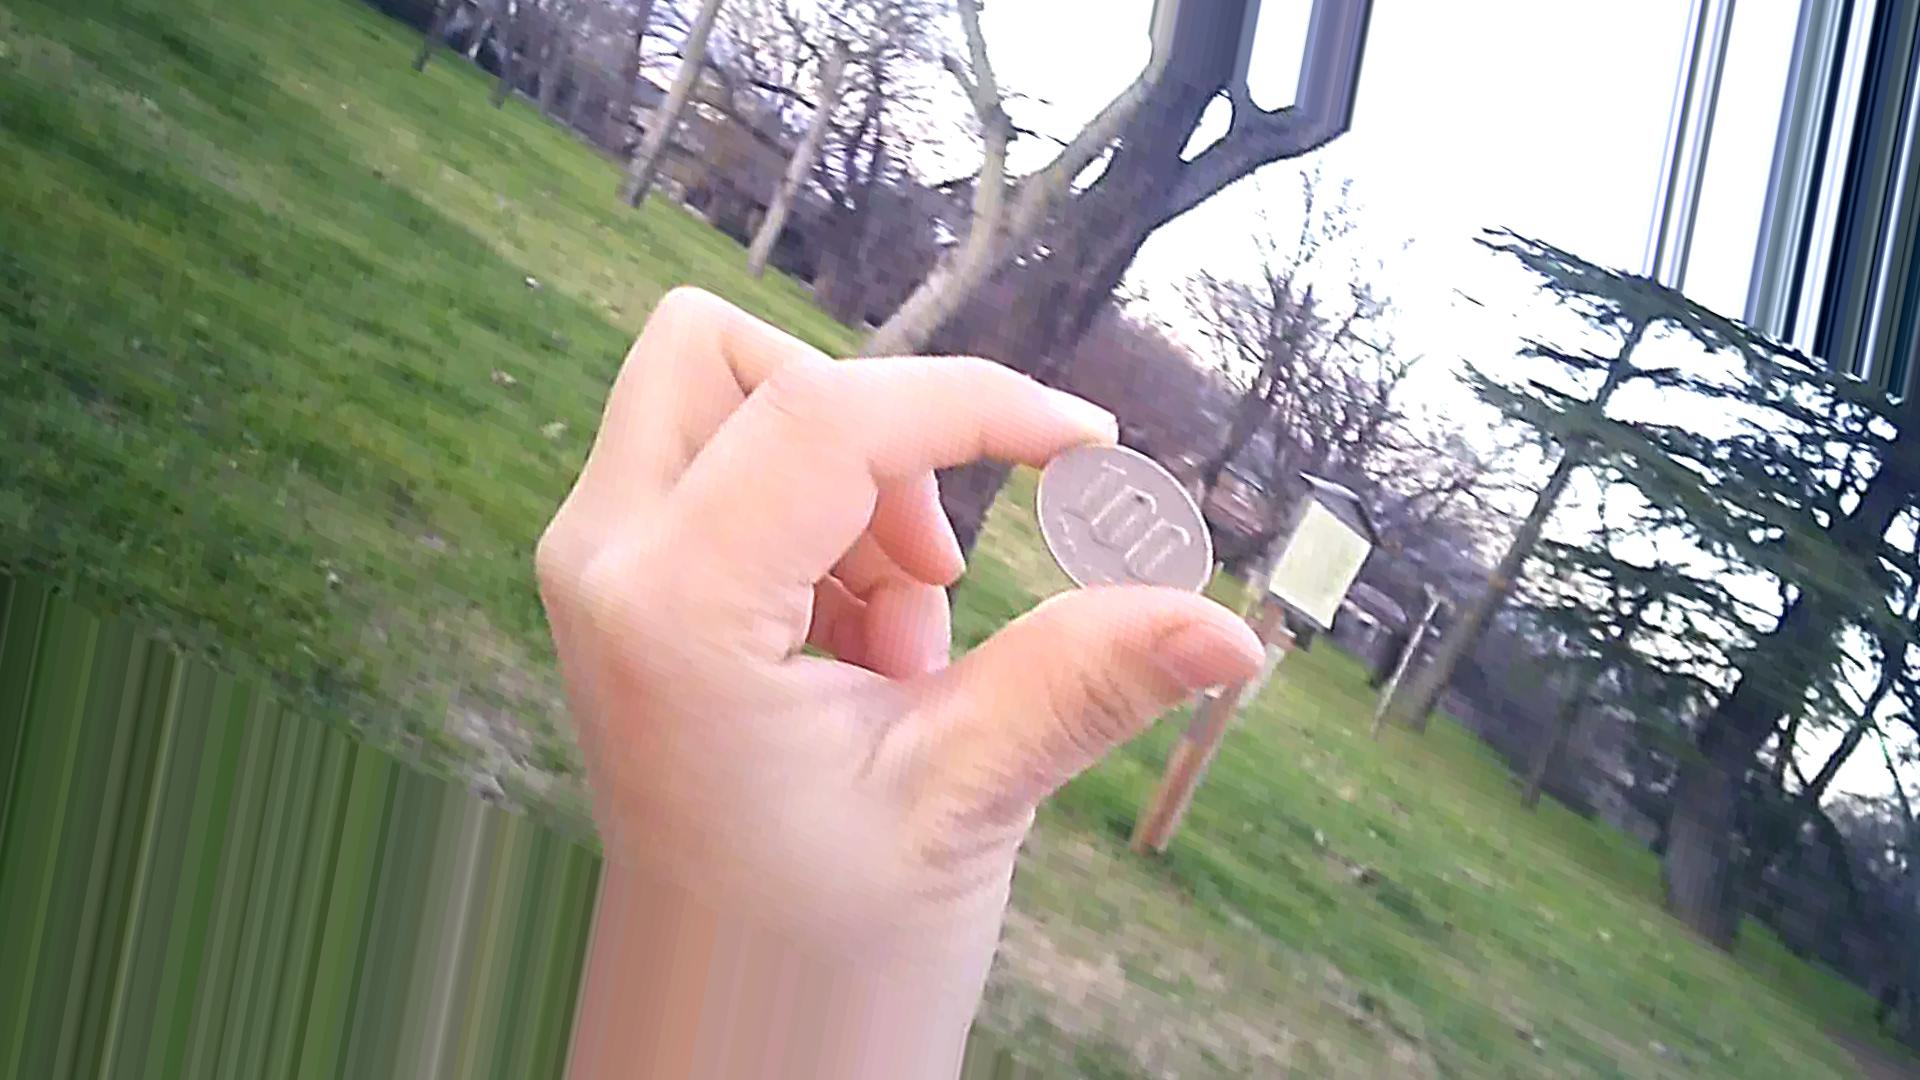100 Yen: (1029, 433, 1238, 597)
